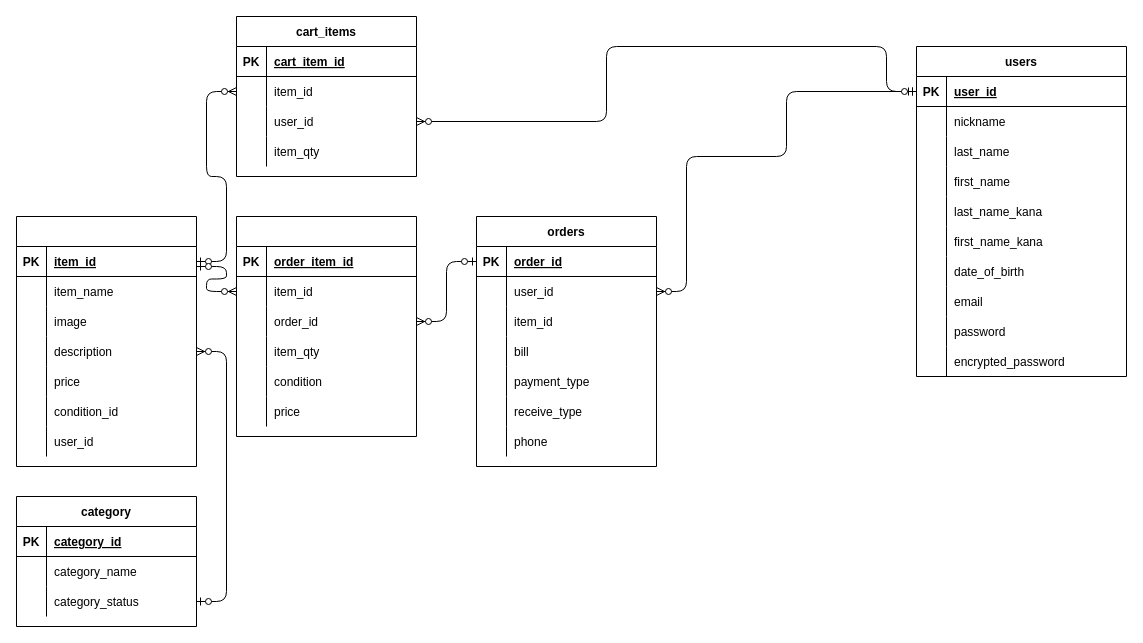
Some shapes in this 1143 by 643 pixel diagram are drawn without their labels. Here are the shapes that lost their labels. From the top down, the box of each, then its label:
(16, 216, 196, 466): items
(236, 216, 416, 436): orderd_items
